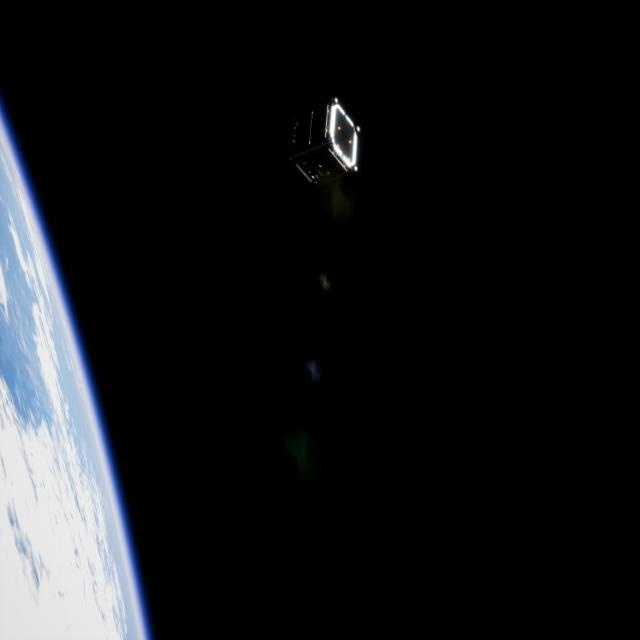satellite: (275, 95, 363, 191)
